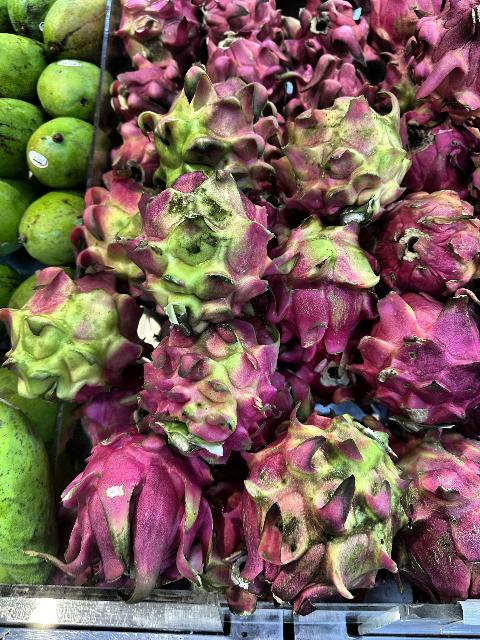buah-naga-belum-matang: (243, 404, 412, 610), (125, 174, 273, 326), (129, 318, 289, 449), (278, 86, 418, 220), (1, 266, 140, 400), (139, 64, 281, 194), (272, 213, 388, 361), (390, 429, 480, 603), (378, 187, 480, 289), (114, 0, 206, 66)
buah-naga-matang: (66, 433, 214, 599), (362, 290, 480, 420), (404, 0, 480, 111), (396, 102, 472, 195), (282, 1, 378, 74), (199, 32, 284, 102), (283, 52, 379, 108), (198, 0, 286, 50), (366, 1, 438, 42)
